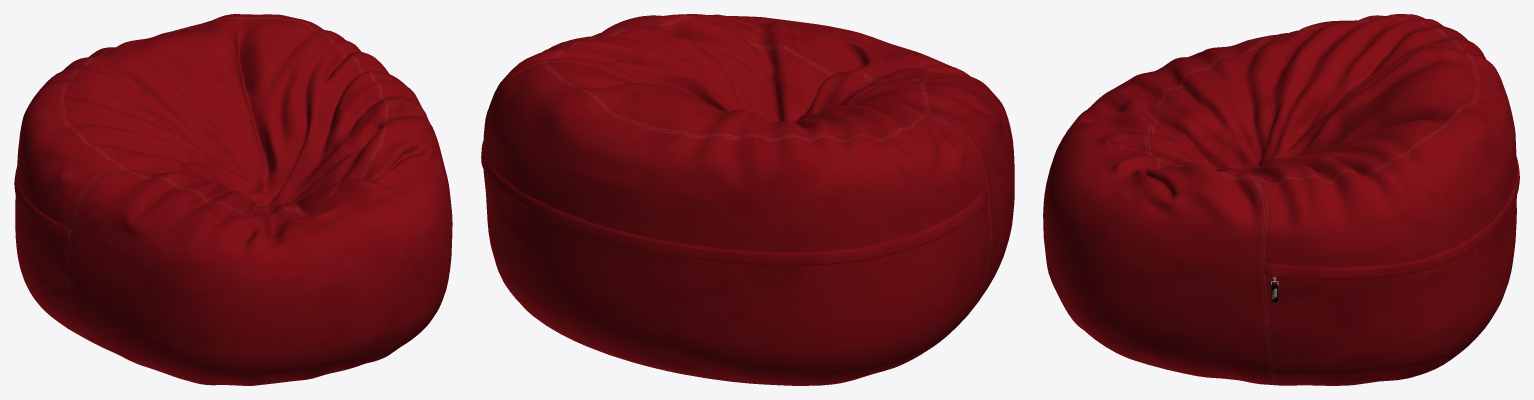
File: abo-B07TP4TK6F.glb
3 views of the same model, side by side, from view 1: azimuth 30°, elevation 25°; view 2: azimuth 150°, elevation 25°; view 3: azimuth 270°, elevation 25° (orthographic). The views are drawn at different scales.
Bounding box in the file's own units: 1.52 × 0.878 × 1.52.
1 material, 1 textured.
